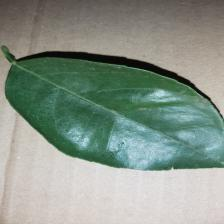healthy: (10, 67, 206, 150)
